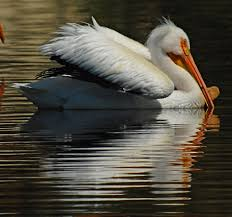pelican: (14, 16, 218, 108)
